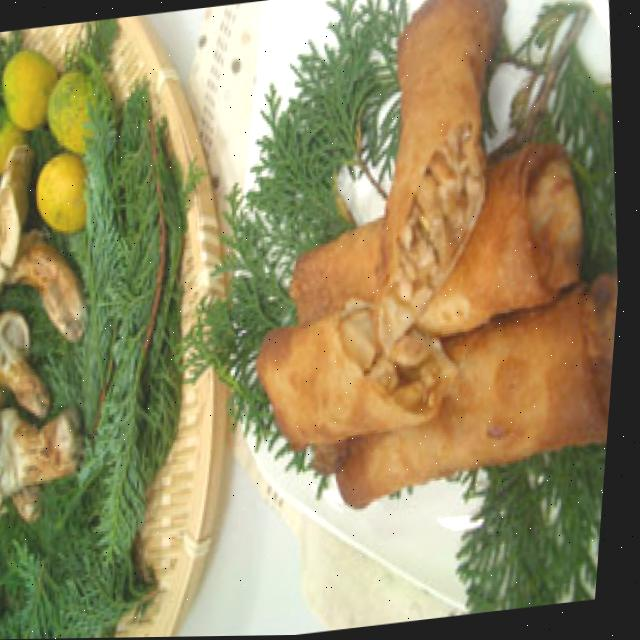鸡蛋料理: (201, 0, 640, 534)
